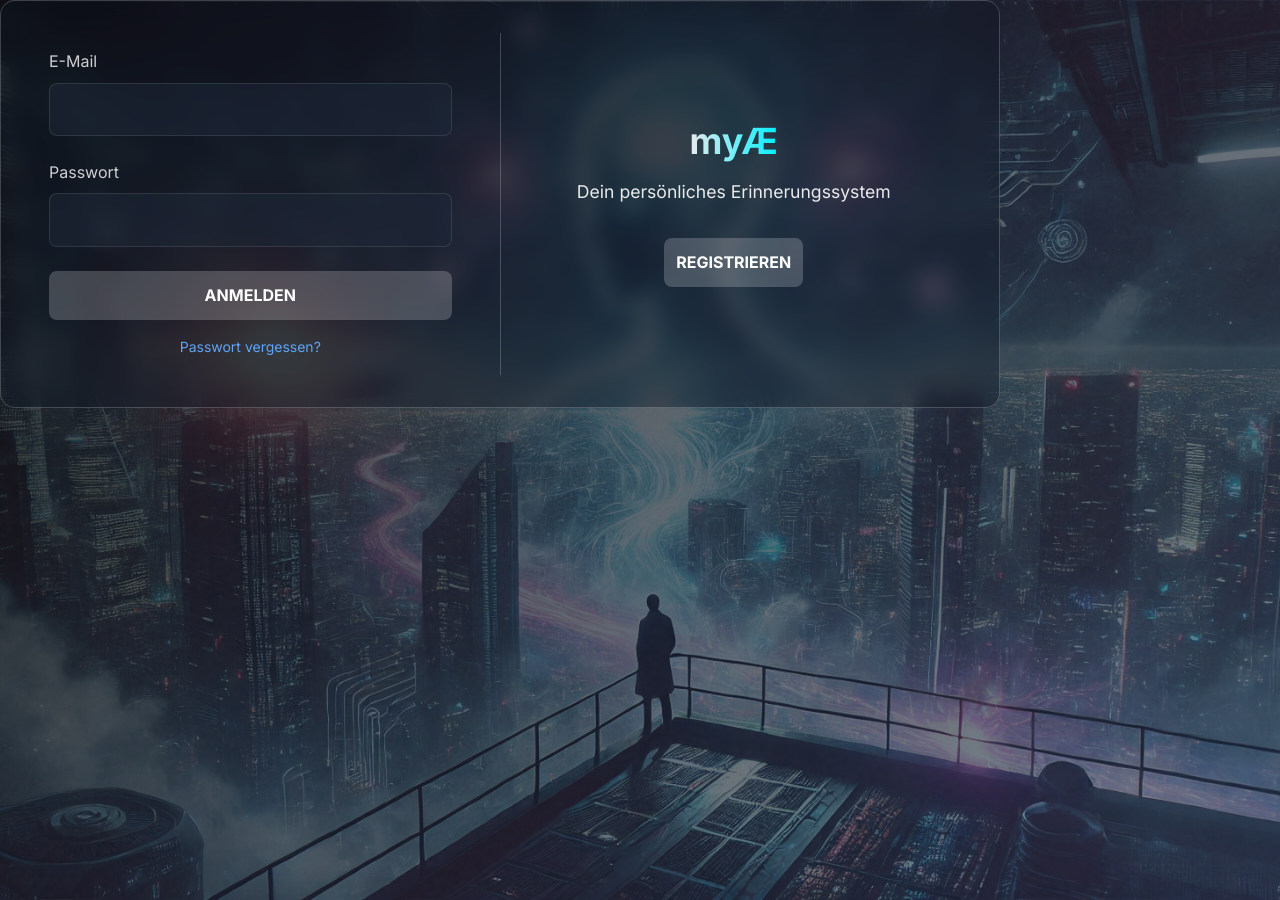
LoginForm › zeigt Fehlermeldung bei falschen Anmeldedaten
In the field labelled "E-Mail": (250, 109) [49,83,452,136], type "falsch@example.com"
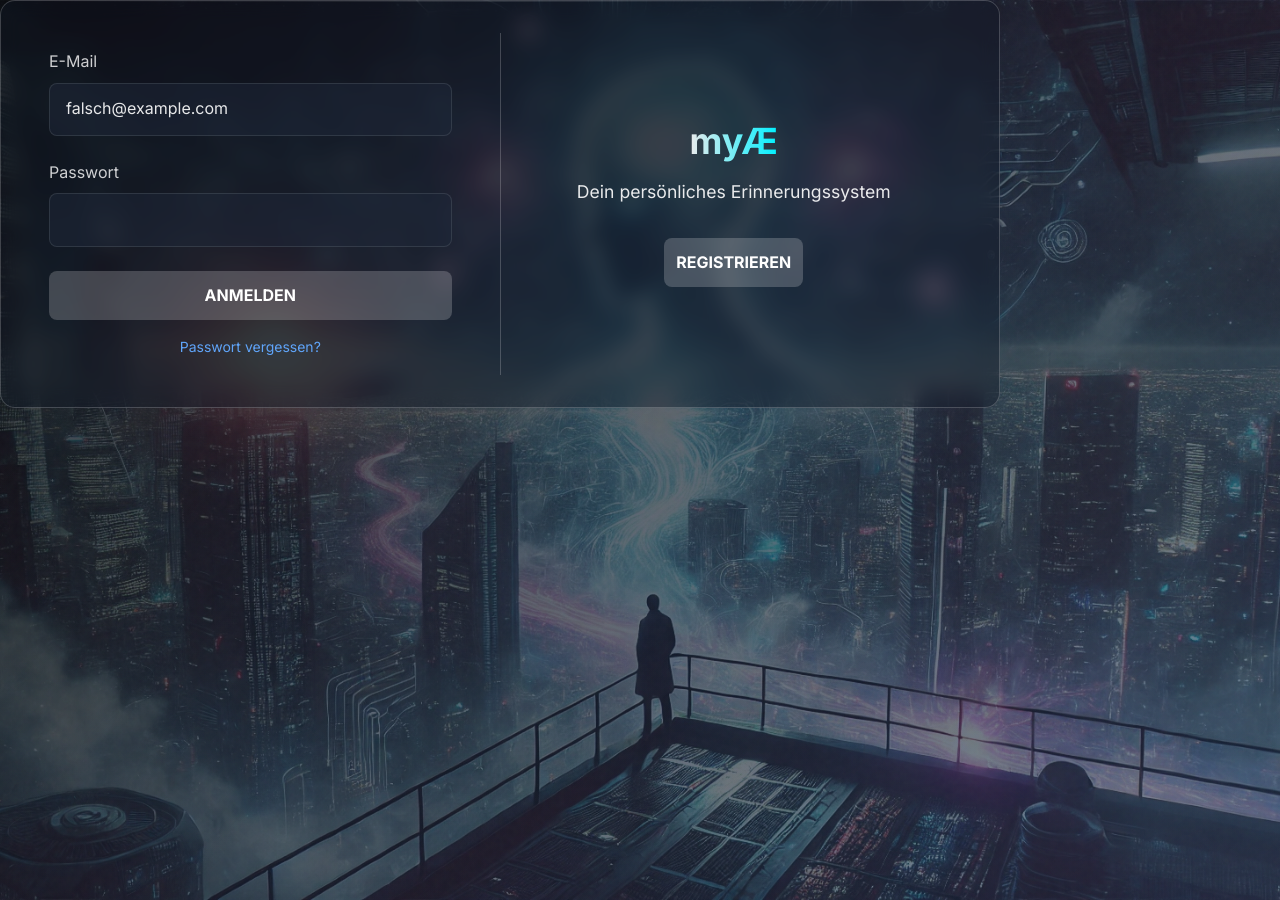
In the password field labelled "Passwort": (250, 220) [49,193,452,247], type "falschespasswort"
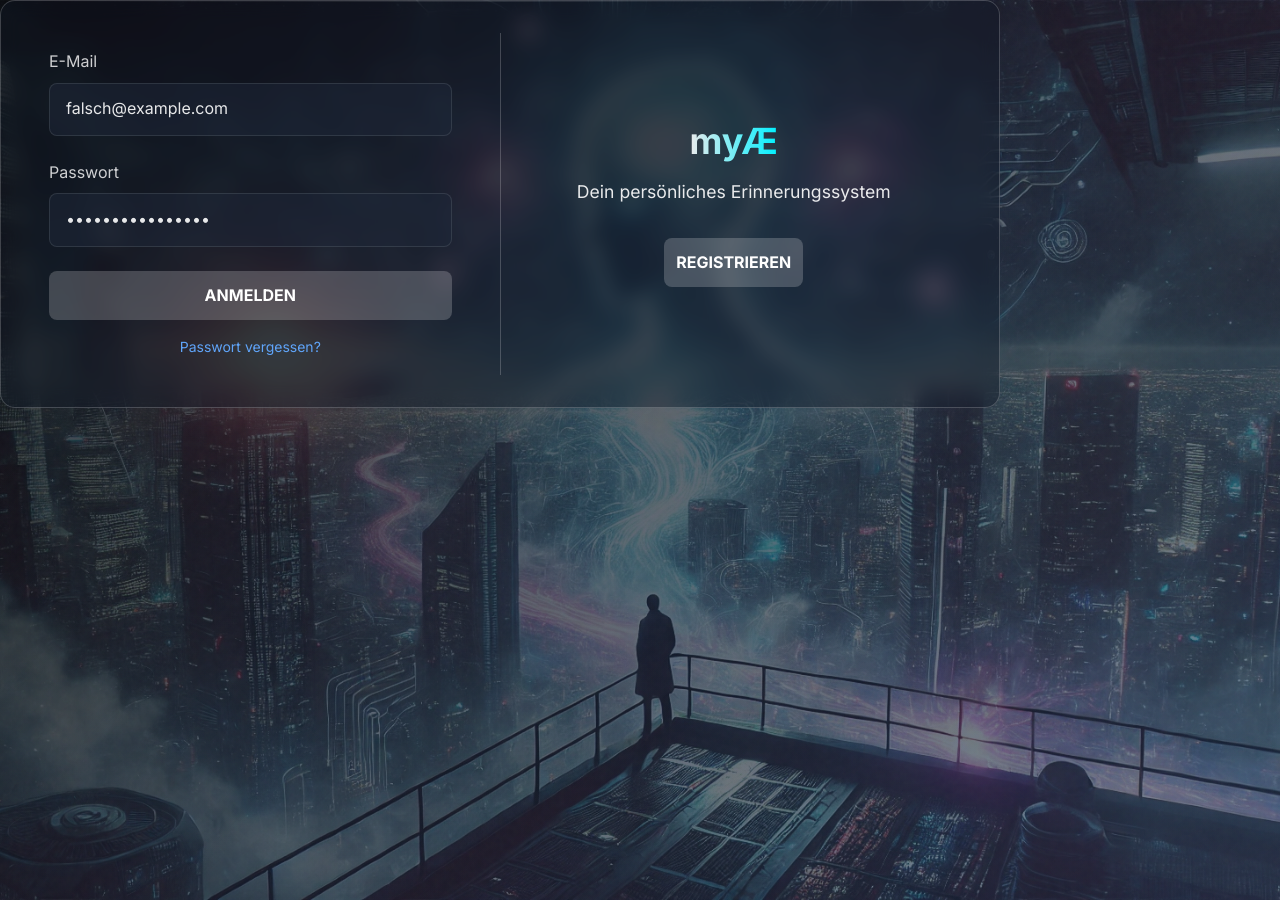
Note: Formular absenden
Submit the form, box [49,49,452,320]
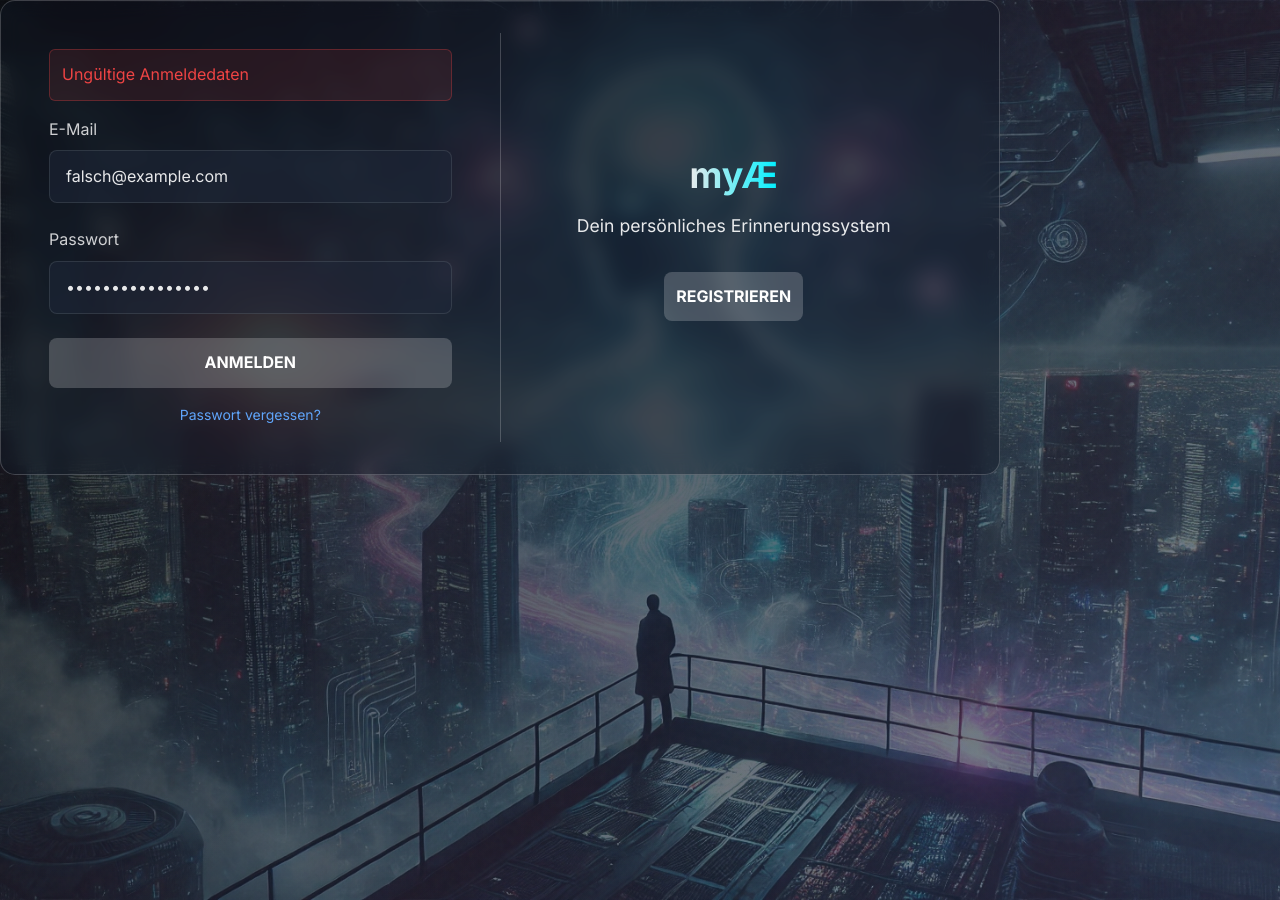
Now the text "Ungültige Anmeldedaten" is shown, box [49,49,452,101]
